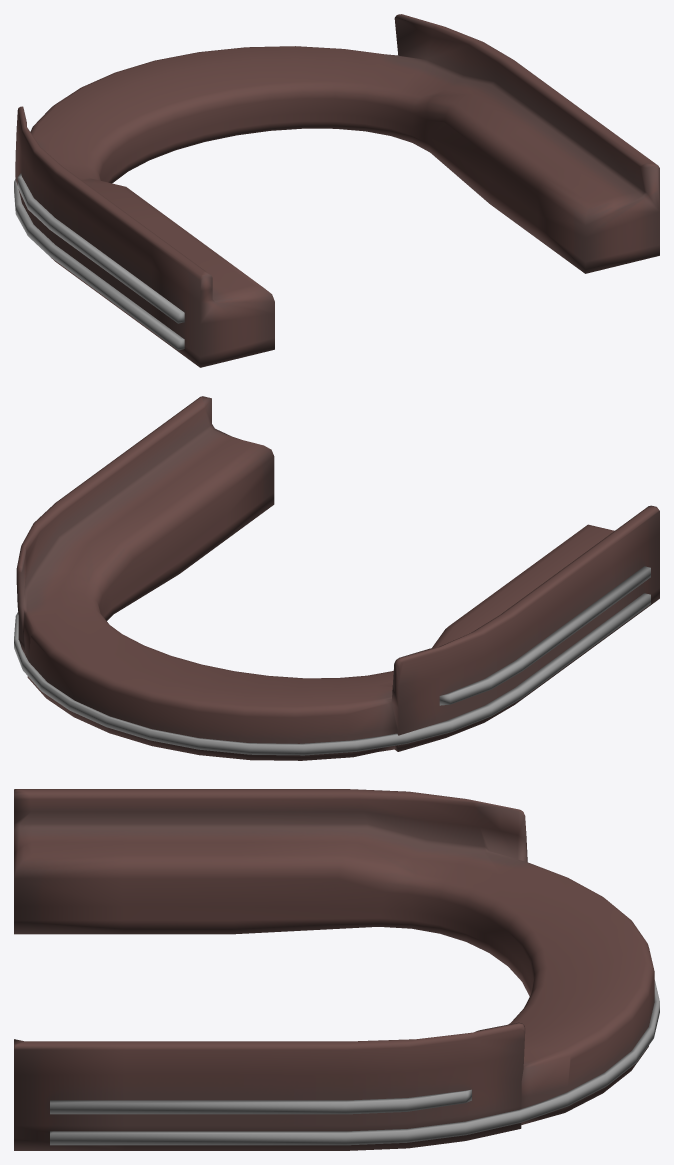
The model's file is main desk.fbx.
The picture shows the model from 3 angles, top to bottom: view 1: azimuth 30°, elevation 25°; view 2: azimuth 150°, elevation 25°; view 3: azimuth 270°, elevation 25°; orthographic projection. The views are drawn at different scales.
Parts seen in each view (by area): view 1: Cube.003, Cube.005, Cube.007; view 2: Cube.003, Cube.005, Cube.007; view 3: Cube.003, Cube.005, Cube.007.
Part boxes in pixels (<box>): Cube.003: <box>15,14,659,367</box>; Cube.005: <box>14,178,184,350</box>; Cube.007: <box>17,173,184,323</box>; Cube.003: <box>16,396,659,760</box>; Cube.005: <box>14,593,650,755</box>; Cube.007: <box>439,566,650,705</box>; Cube.003: <box>14,789,654,1150</box>; Cube.005: <box>50,980,659,1145</box>; Cube.007: <box>50,1089,471,1114</box>.
Bounding box in the file's own units: 2242 × 412 × 2304.
